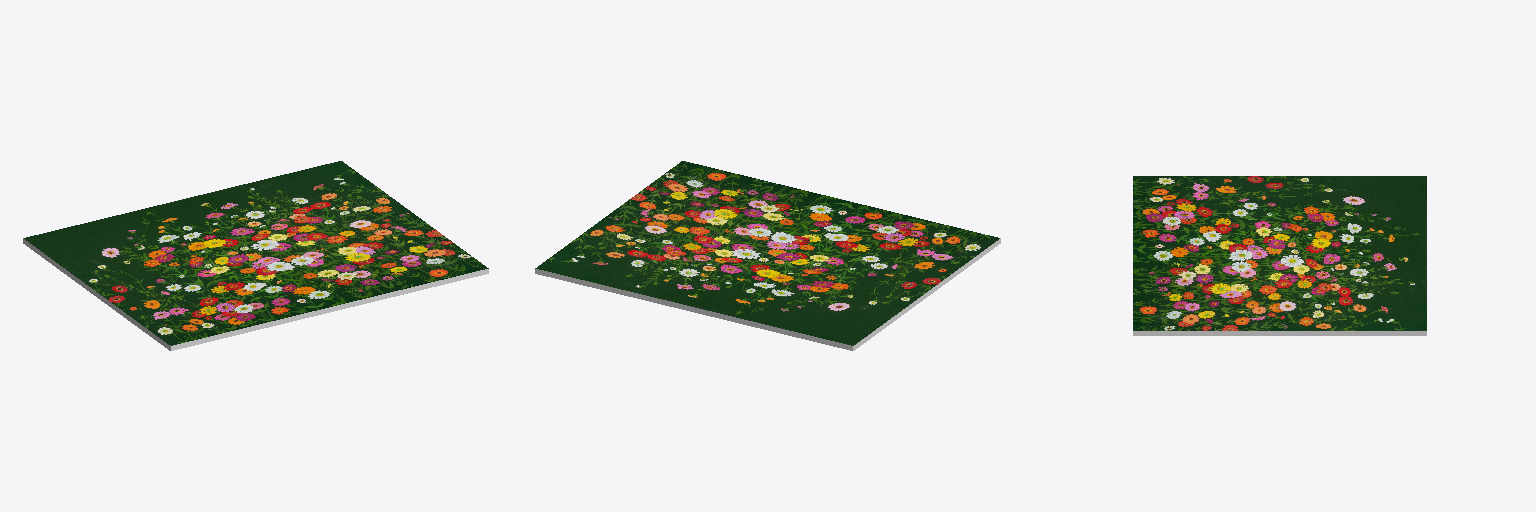
The picture shows the model from 3 angles: view 1: azimuth 30°, elevation 25°; view 2: azimuth 150°, elevation 25°; view 3: azimuth 270°, elevation 25°; orthographic projection.
Parts seen in each view (by area): view 1: Mesh1 Model; view 2: Mesh1 Model; view 3: Mesh1 Model.
Part boxes in pixels (x1,y1,x2,y2): Mesh1 Model: (23,161,488,350); Mesh1 Model: (535,161,1000,350); Mesh1 Model: (1133,176,1426,335).
Bounding box in the file's own units: 1.89 × 0.03 × 1.52.
2 materials, 1 textured.